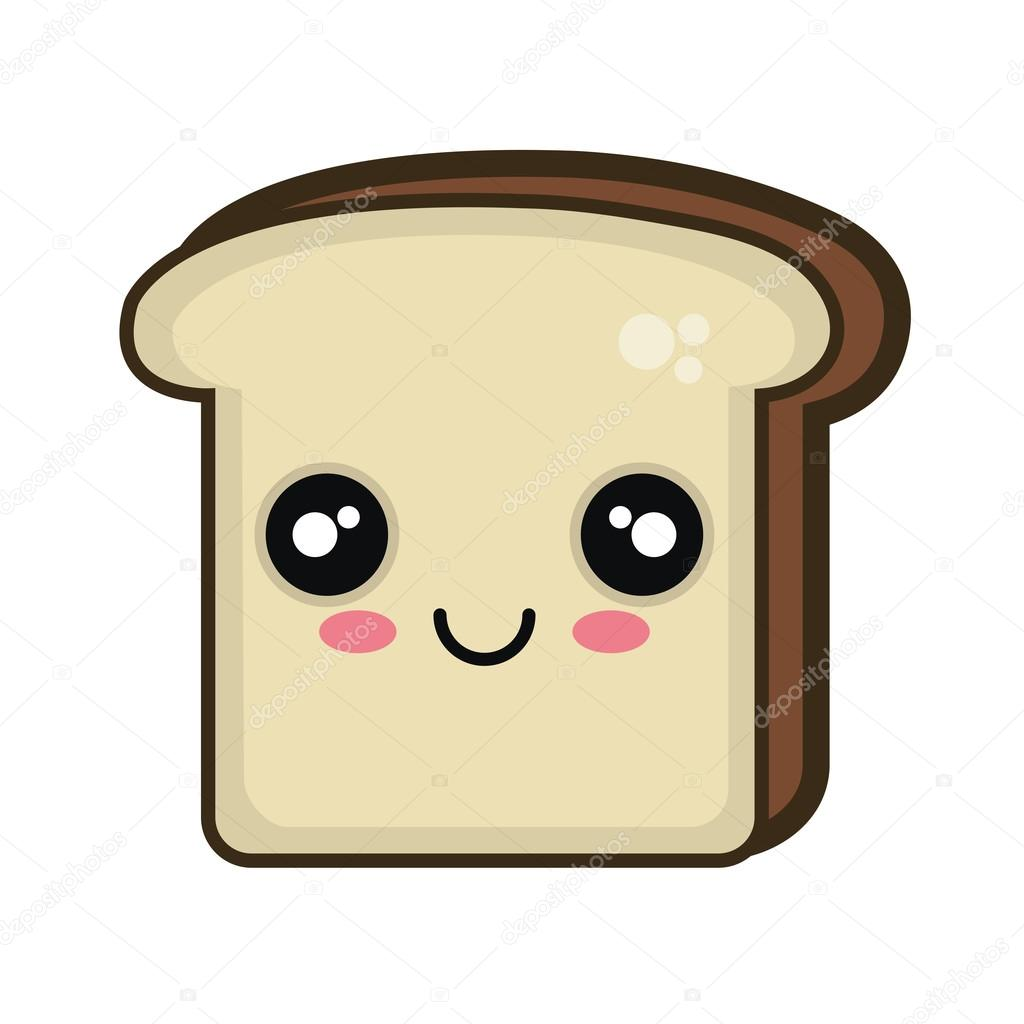slice of bread: (170, 232, 822, 876)
